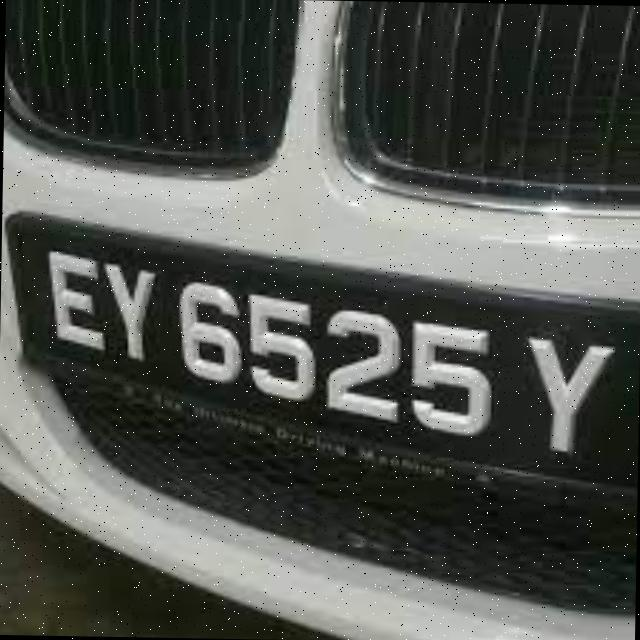License_Plate: (1, 204, 640, 526)
